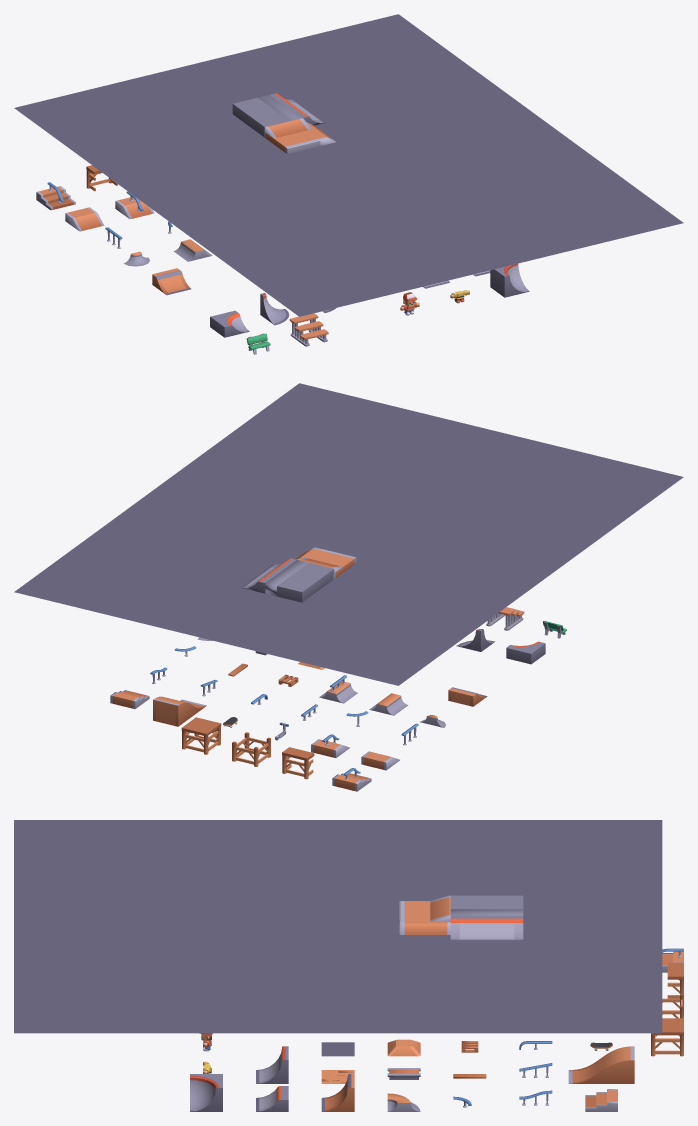
Rendered from map.glb.
The picture shows the model from 3 angles, top to bottom: view 1: azimuth 30°, elevation 25°; view 2: azimuth 150°, elevation 25°; view 3: azimuth 270°, elevation 25°; orthographic projection. The views are drawn at different scales.
Visible parts, largest first — view 1: floor-concrete.001, bowl-platform, ramp.002, bowl-corner-inner, benches, half-pipe-low, bowl-corner-inner-low, steps-rail, ramp, ramp-rail, ramp.001; view 2: floor-concrete.001, bowl-platform, slope-smooth, structure-wood-platform, structure-wood, ramp.002, structure-platform, bowl-corner-inner-low; view 3: floor-concrete.001, bowl-platform, slope-smooth, ramp.002, bowl-corner-inner, structure-wood-platform, half-pipe, bowl-side, bowl-side-low, steps, obstacle-box, ramp.001 (+3 smaller).
Part boxes in pixels (x1,y1,x2,y2): floor-concrete.001: (14,14,683,316); bowl-platform: (232,93,325,136); ramp.002: (264,122,336,153); bowl-corner-inner: (490,263,529,297); benches: (289,313,328,346); half-pipe-low: (152,268,191,295); bowl-corner-inner-low: (210,310,249,337); steps-rail: (36,182,75,210); ramp: (65,207,104,231); ramp-rail: (115,191,154,219); ramp.001: (264,118,311,138); floor-concrete.001: (14,383,683,685); bowl-platform: (241,558,334,602); slope-smooth: (153,696,206,726); structure-wood-platform: (181,717,221,754); structure-wood: (232,732,270,766); ramp.002: (295,547,356,579); structure-platform: (282,747,314,779); bowl-corner-inner-low: (506,641,545,664); floor-concrete.001: (14,820,662,1033); bowl-platform: (450,895,523,941); slope-smooth: (568,1046,634,1083); ramp.002: (399,901,450,934); bowl-corner-inner: (190,1074,222,1111); structure-wood-platform: (651,1018,683,1056); half-pipe: (321,1074,354,1111); bowl-side: (256,1046,288,1083); bowl-side-low: (256,1086,288,1111); steps: (585,1089,617,1111); obstacle-box: (387,1039,420,1056); ramp.001: (430,895,450,921).
Bounding box in the file's own units: 15.32 × 4.46 × 20.35.
Materials: 42 (42 with a texture image).
